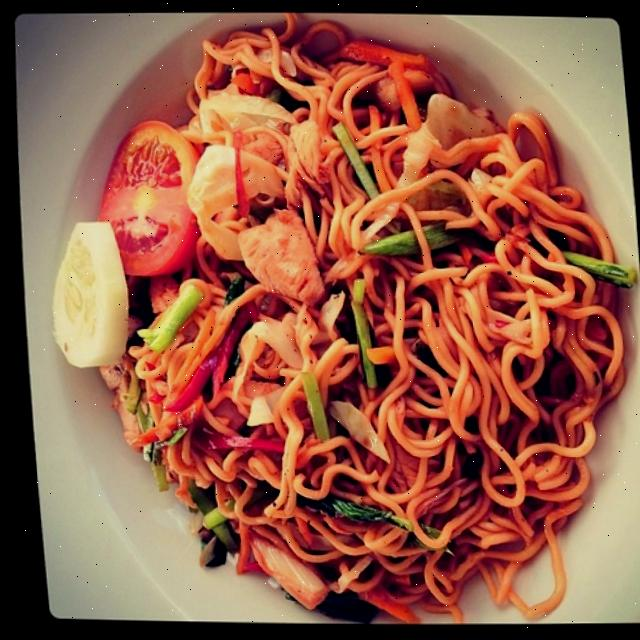面条主食: (46, 37, 625, 610)
